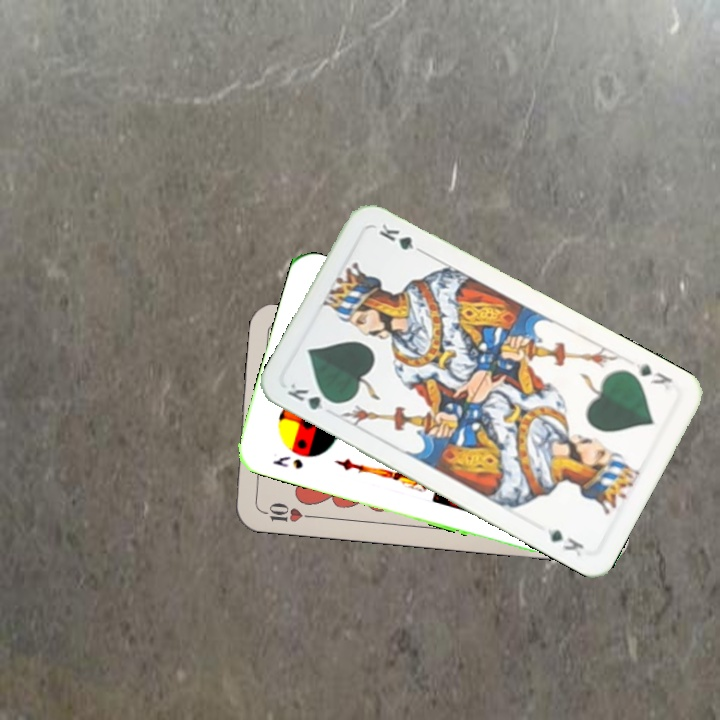GK: (283, 379, 340, 415), (629, 359, 675, 393)
H10: (256, 498, 315, 525)
SK: (268, 452, 306, 472)
